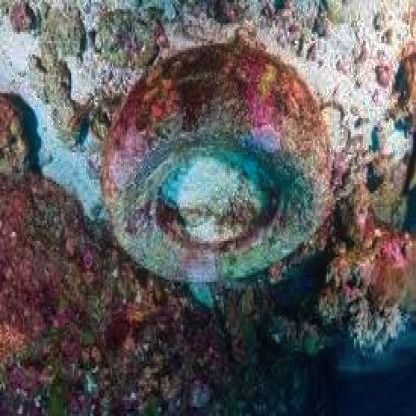tire: (98, 46, 344, 304)
